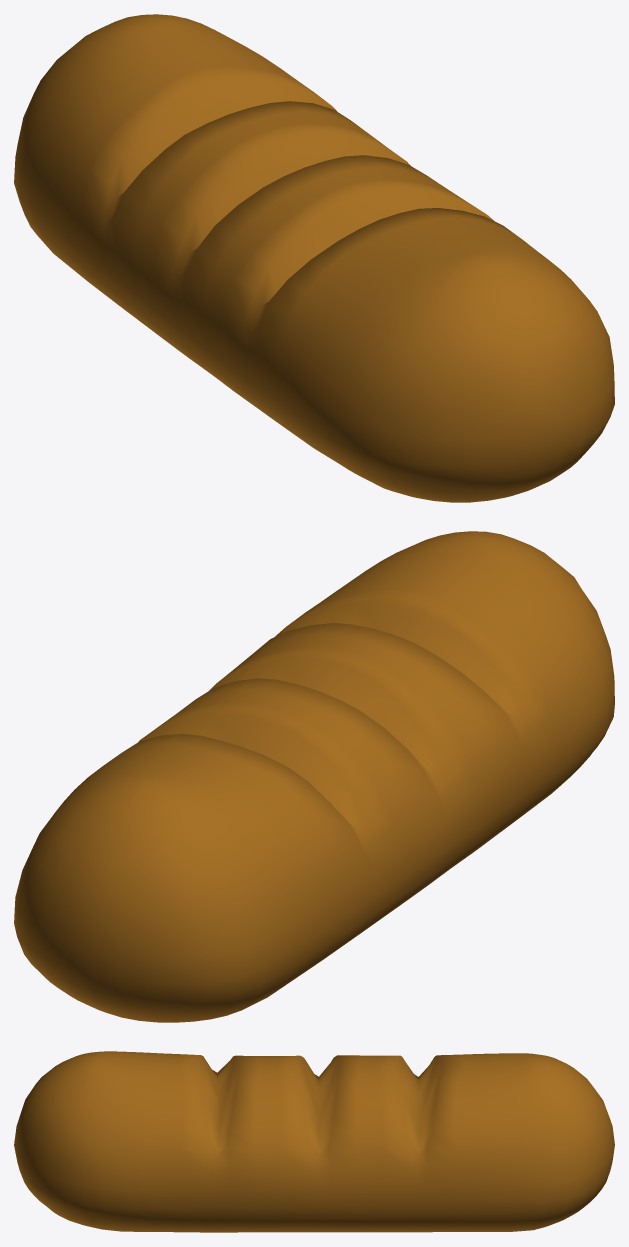
Rendered from bread.fbx.
3 views of the same model, one above another, from view 1: azimuth 30°, elevation 25°; view 2: azimuth 150°, elevation 25°; view 3: azimuth 270°, elevation 25° (orthographic). The views are drawn at different scales.
Visible parts, largest first — view 1: Sphere; view 2: Sphere; view 3: Sphere.
Part boxes in pixels (left/top/right/bottom): Sphere: left=14, top=14, right=614, bottom=502; Sphere: left=14, top=531, right=614, bottom=1022; Sphere: left=14, top=1051, right=614, bottom=1232.
Size of the model in its own units: 198 by 155 by 550.
